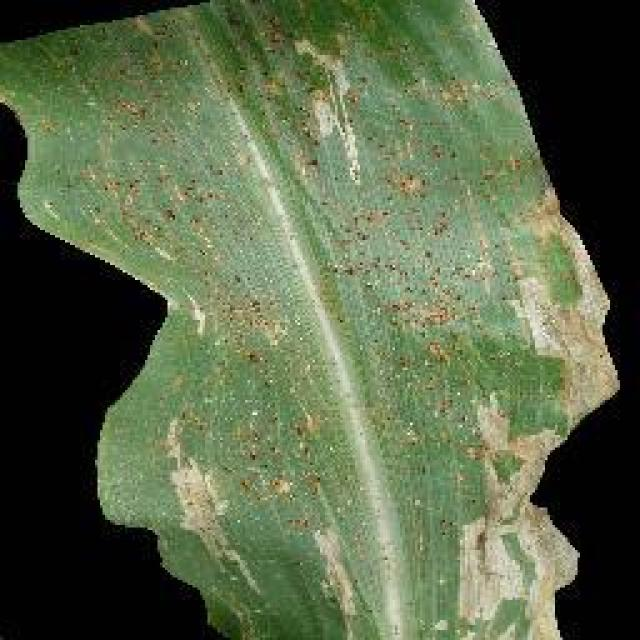Corn Common Rust: (187, 132, 538, 612)
